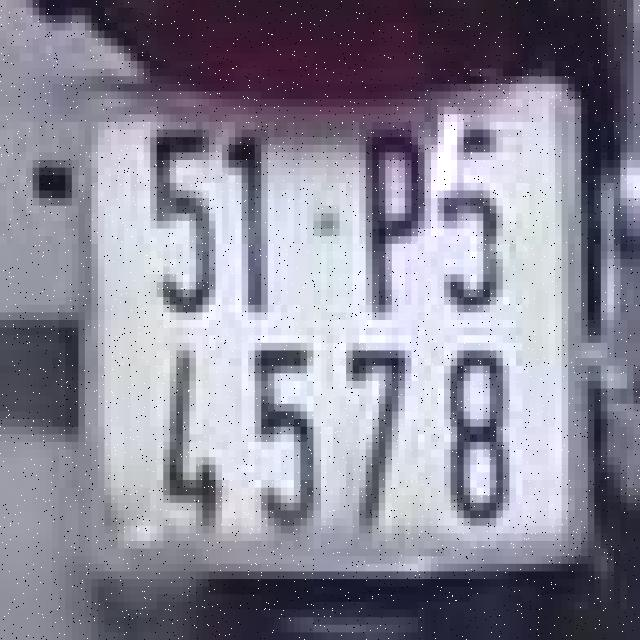1: (222, 114, 287, 328)
4: (153, 332, 232, 530)
5: (238, 332, 330, 537), (434, 99, 513, 320), (140, 122, 219, 335)
7: (333, 332, 418, 530)
8: (431, 339, 522, 537)
P: (349, 110, 428, 324)
